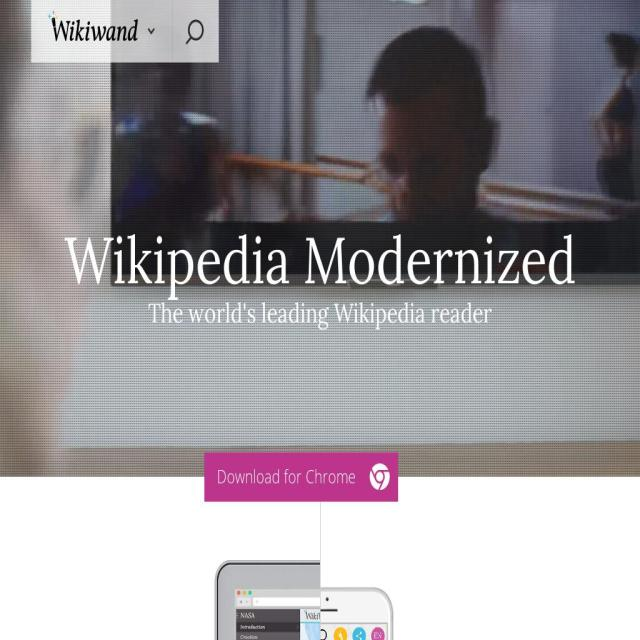button: (204, 452, 398, 502)
heading: (6, 223, 634, 295), (12, 294, 628, 332)
image: (0, 0, 640, 477), (164, 559, 640, 640), (236, 609, 636, 640), (246, 584, 408, 640), (44, 8, 140, 44), (267, 623, 387, 640)
text: (217, 462, 356, 488)
